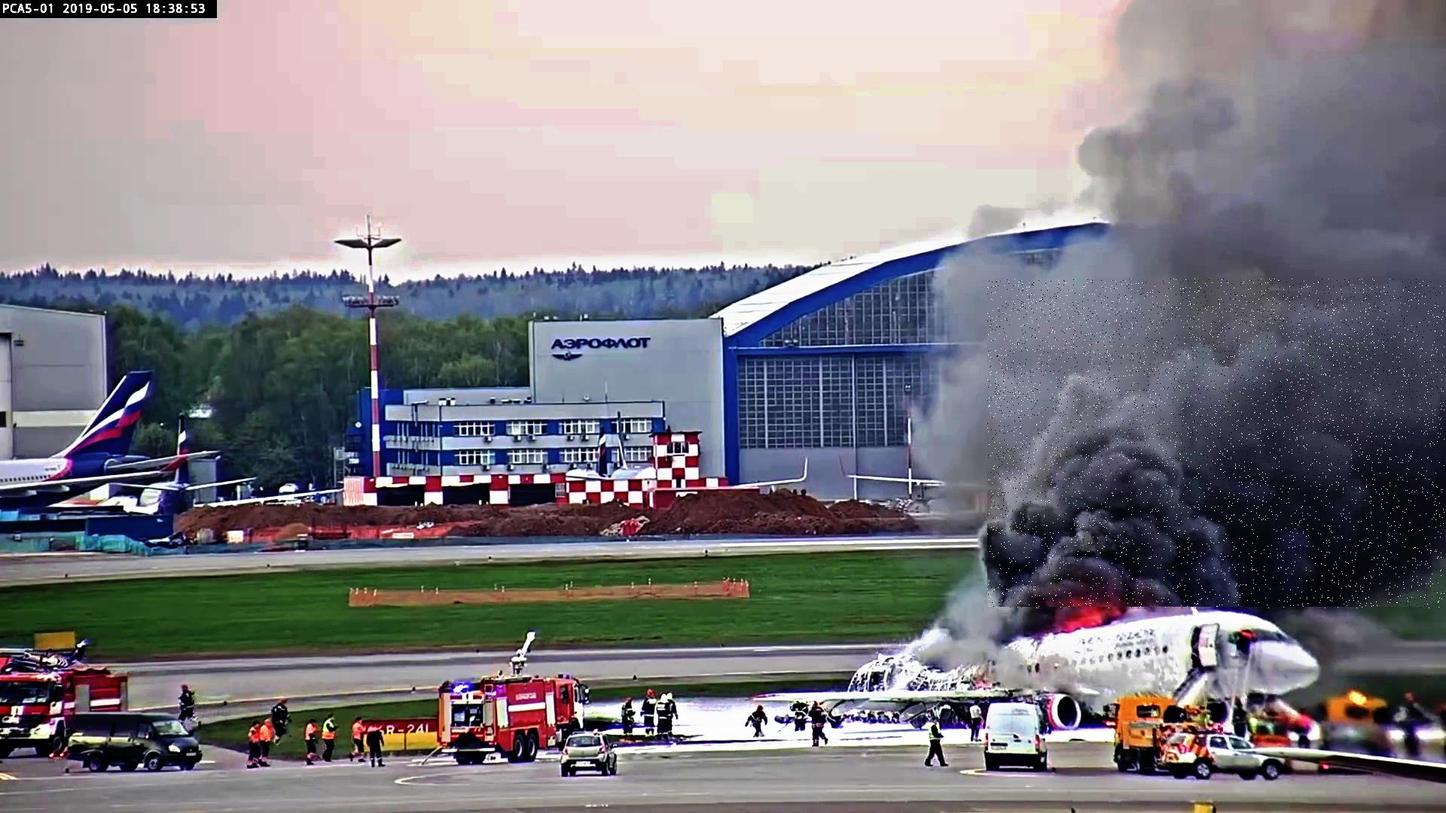smoke: (987, 279, 1444, 609)
